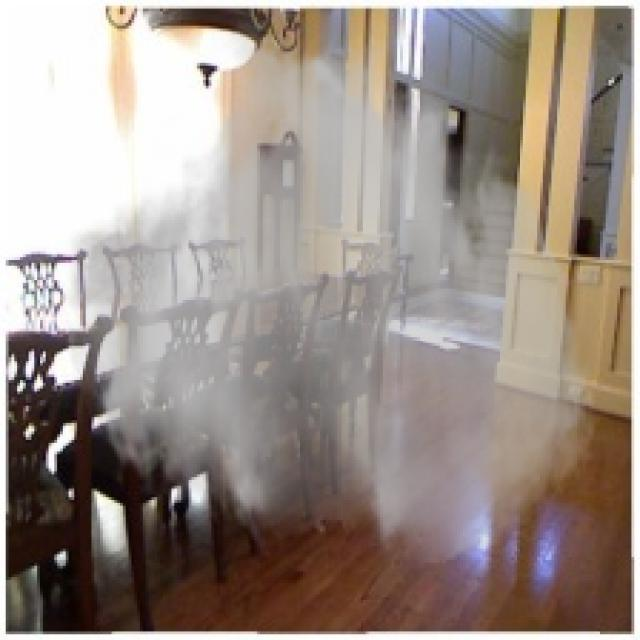Smoke: (60, 17, 600, 569)
